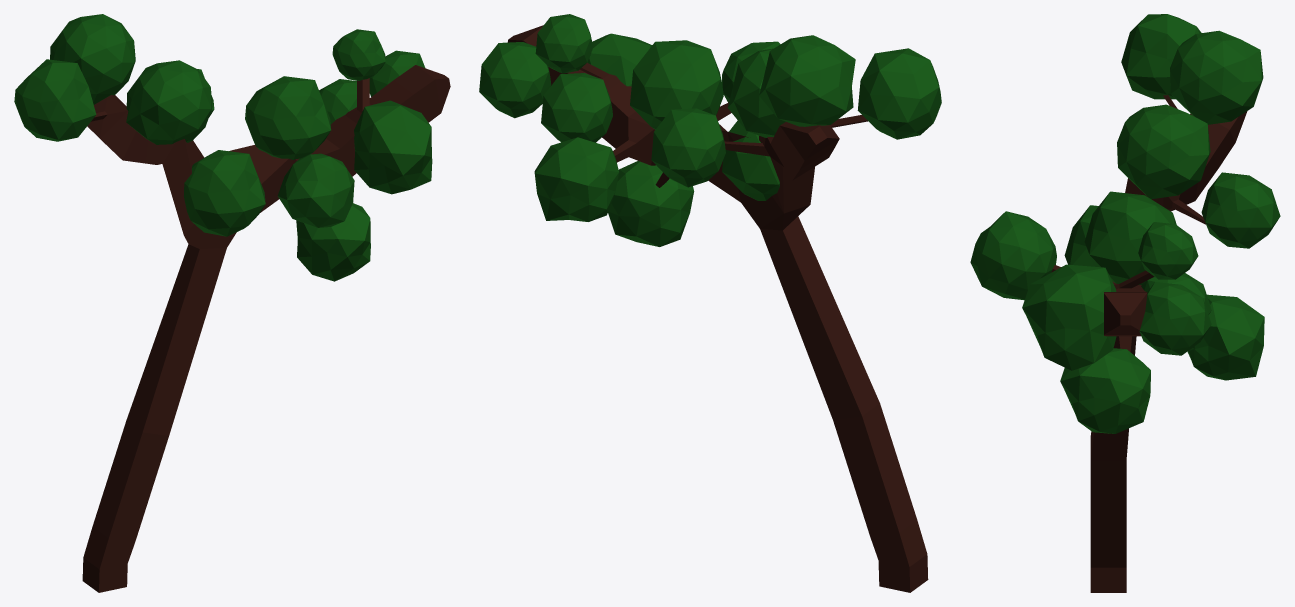
3 renders of one model, left to right at view 1: azimuth 30°, elevation 25°; view 2: azimuth 150°, elevation 25°; view 3: azimuth 270°, elevation 25°, orthographic. The views are drawn at different scales.
Parts seen in each view (by area): view 1: Cube, Icosphere.013, Icosphere.010, Icosphere.006, Icosphere.007, Icosphere.004, Icosphere.011, Icosphere.005, Icosphere.001, Icosphere, Icosphere.008, Icosphere.009; view 2: Cube, Icosphere.011, Icosphere.006, Icosphere.004, Icosphere.003, Icosphere.001, Icosphere.002, Icosphere.009, Icosphere.008, Icosphere.010, Icosphere, Icosphere.007 (+2 smaller); view 3: Cube, Icosphere.013, Icosphere.010, Icosphere.011, Icosphere.001, Icosphere.005, Icosphere.006, Icosphere.003, Icosphere.002, Icosphere.004, Icosphere.009, Icosphere (+2 smaller).
Part boxes in pixels (box(x1,y1,x2,y2)): Cube: box(82, 65, 450, 592); Icosphere.013: box(354, 100, 432, 194); Icosphere.010: box(126, 60, 212, 144); Icosphere.006: box(245, 76, 331, 159); Icosphere.007: box(184, 150, 265, 236); Icosphere.004: box(14, 59, 96, 141); Icosphere.011: box(50, 14, 135, 104); Icosphere.005: box(277, 153, 354, 227); Icosphere.001: box(296, 203, 370, 281); Icosphere: box(332, 29, 385, 80); Icosphere.008: box(319, 79, 356, 124); Icosphere.009: box(369, 50, 425, 96); Cube: box(507, 25, 928, 592); Icosphere.011: box(759, 35, 855, 126); Icosphere.006: box(630, 40, 723, 129); Icosphere.004: box(857, 48, 941, 139); Icosphere.003: box(534, 137, 618, 221); Icosphere.001: box(608, 161, 694, 246); Icosphere.002: box(651, 108, 725, 187); Icosphere.009: box(479, 42, 551, 118); Icosphere.008: box(541, 73, 612, 142); Icosphere.010: box(727, 48, 785, 137); Icosphere: box(535, 14, 592, 73); Icosphere.007: box(722, 120, 779, 200); Cube: box(1051, 95, 1247, 592); Icosphere.013: box(1022, 264, 1116, 370); Icosphere.010: box(1117, 104, 1210, 199); Icosphere.011: box(1170, 30, 1263, 124); Icosphere.001: box(1060, 348, 1150, 433); Icosphere.005: box(970, 211, 1056, 300); Icosphere.006: box(1084, 191, 1176, 284); Icosphere.003: box(1187, 294, 1264, 380); Icosphere.002: box(1201, 172, 1280, 248); Icosphere.004: box(1121, 14, 1201, 99); Icosphere.009: box(1139, 282, 1211, 355); Icosphere: box(1138, 222, 1198, 279).
Size of the model in its own units: 311 by 379 by 187.
